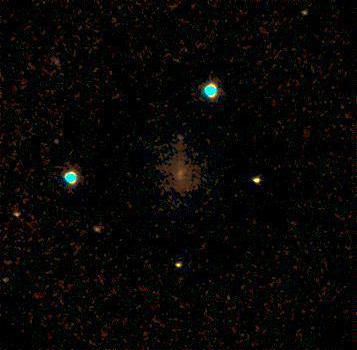star: (289, 0, 319, 27)
